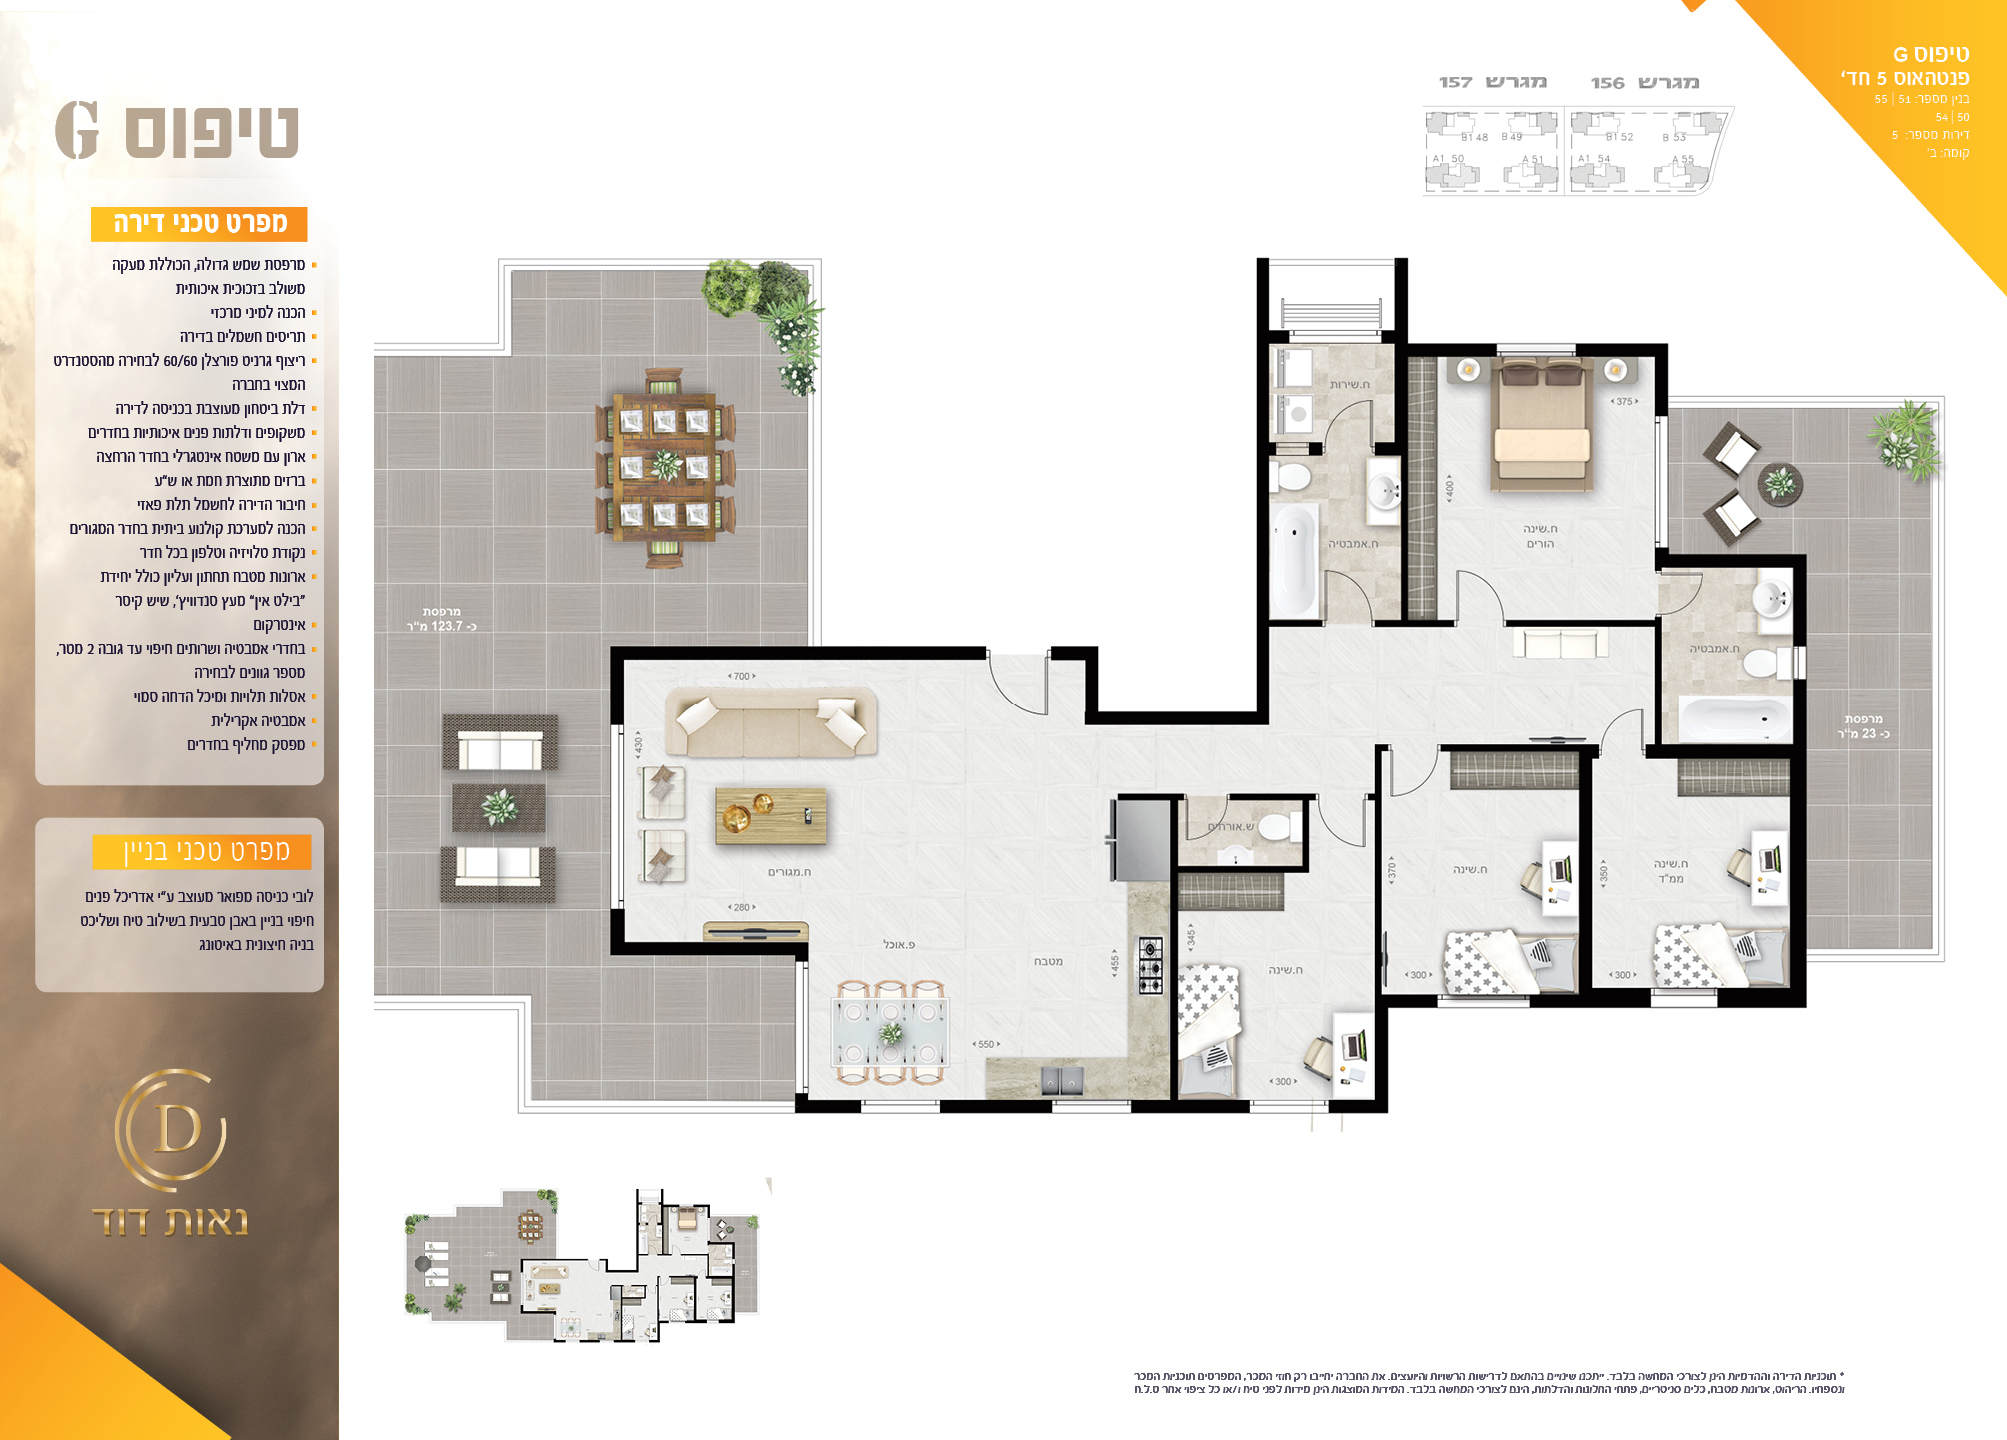door: (982, 669, 1056, 726), (1387, 759, 1440, 824), (1448, 566, 1508, 616), (1321, 561, 1374, 612), (1315, 810, 1368, 859), (1670, 570, 1712, 619), (1323, 399, 1379, 435), (1183, 810, 1234, 848)
wall: (609, 644, 982, 661), (1254, 270, 1268, 722), (1790, 679, 1808, 1008), (1052, 647, 1099, 726), (1578, 745, 1593, 990), (1169, 795, 1178, 1103), (1395, 259, 1409, 457), (622, 941, 809, 955), (1374, 743, 1382, 1074), (1085, 711, 1267, 725), (1653, 553, 1806, 567), (1644, 745, 1808, 757), (1719, 988, 1809, 1008), (941, 1099, 1053, 1113), (1374, 994, 1387, 1114), (1440, 743, 1599, 753), (1131, 1100, 1250, 1113), (1575, 343, 1669, 358), (1395, 341, 1497, 355), (1580, 988, 1650, 1008), (1505, 619, 1663, 626), (1794, 563, 1808, 647), (1169, 866, 1310, 874), (1401, 452, 1407, 628), (1655, 343, 1669, 418), (1655, 619, 1663, 745), (1329, 1100, 1388, 1114), (1385, 994, 1438, 1010), (795, 1100, 859, 1113), (609, 912, 626, 955), (1373, 619, 1455, 626), (1229, 793, 1315, 799), (1117, 793, 1183, 801), (1374, 443, 1409, 457), (1303, 799, 1307, 873), (1653, 549, 1669, 566)
window: (611, 725, 622, 910), (1652, 988, 1717, 1018), (1655, 418, 1667, 549), (795, 965, 807, 1094), (1438, 994, 1527, 1008), (1053, 1100, 1130, 1116), (1289, 330, 1381, 343), (862, 1100, 940, 1114), (1496, 343, 1574, 355), (1251, 1100, 1326, 1113), (1276, 443, 1307, 457), (1794, 647, 1804, 679)
